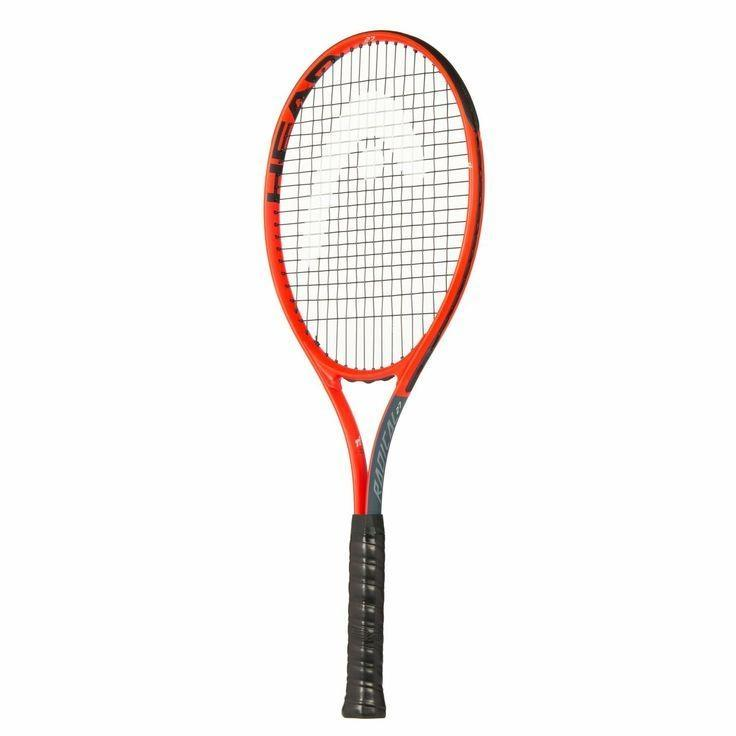Tennis-Racket: (258, 13, 484, 725)
